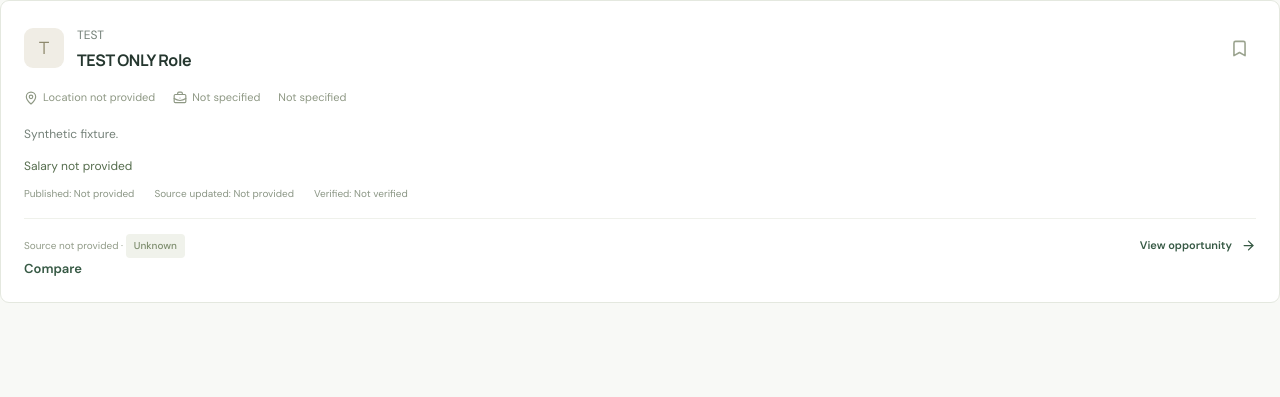
Test case: only changes saved UI after the save API confirms success
This screenshot has width=1280, height=397.
Click the button named "Save TEST ONLY Role" at (1240, 48), box [1223,32,1256,65]
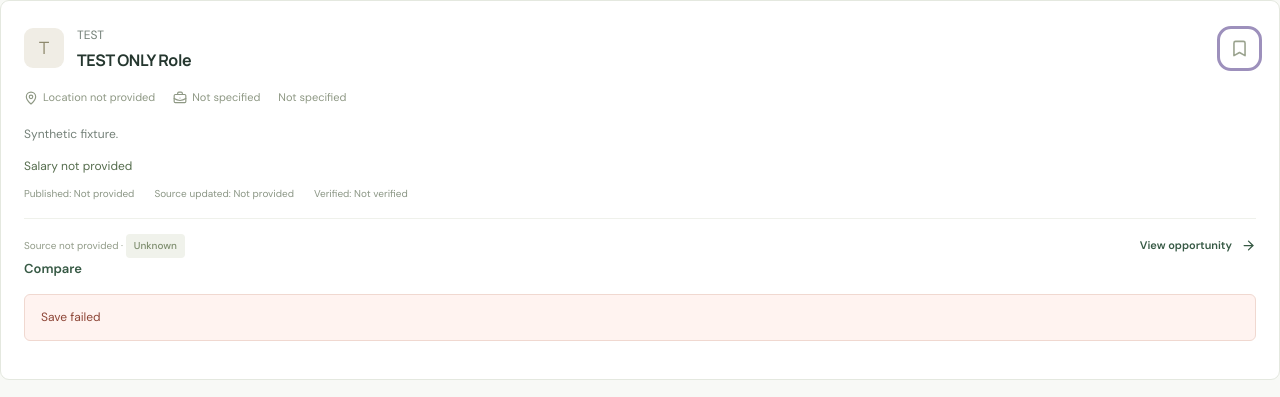
expect the message reads "Save failed": met, box [41,309,101,325]
